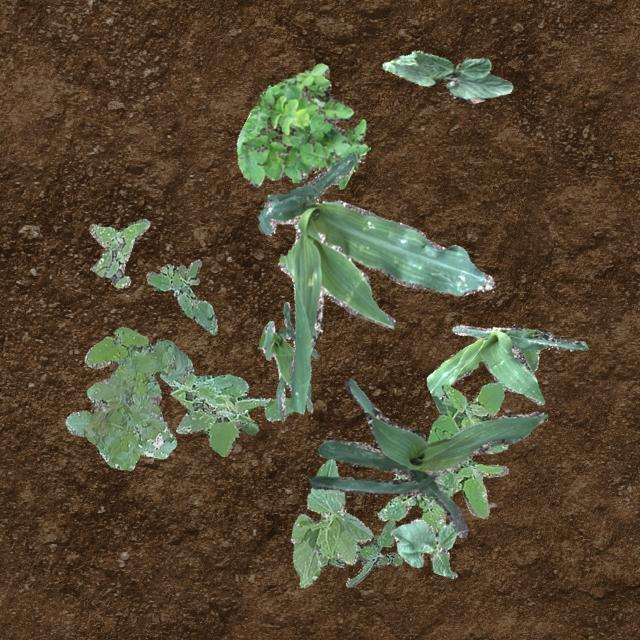crop: (256, 150, 492, 414), (308, 378, 546, 536), (426, 324, 586, 414), (289, 458, 372, 586), (258, 300, 318, 422), (382, 49, 512, 102), (388, 516, 456, 578)
weed: (377, 381, 508, 534), (64, 326, 192, 470), (236, 62, 370, 188), (159, 372, 293, 456), (319, 518, 402, 586), (144, 258, 217, 334), (88, 218, 148, 286)
